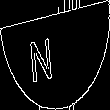N_N: (41, 27, 69, 83)
